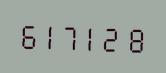eight: (123, 21, 143, 55)
one: (38, 18, 58, 52), (81, 19, 101, 53)
seven: (60, 19, 80, 52)
six: (17, 17, 37, 51)
two: (102, 20, 122, 54)
